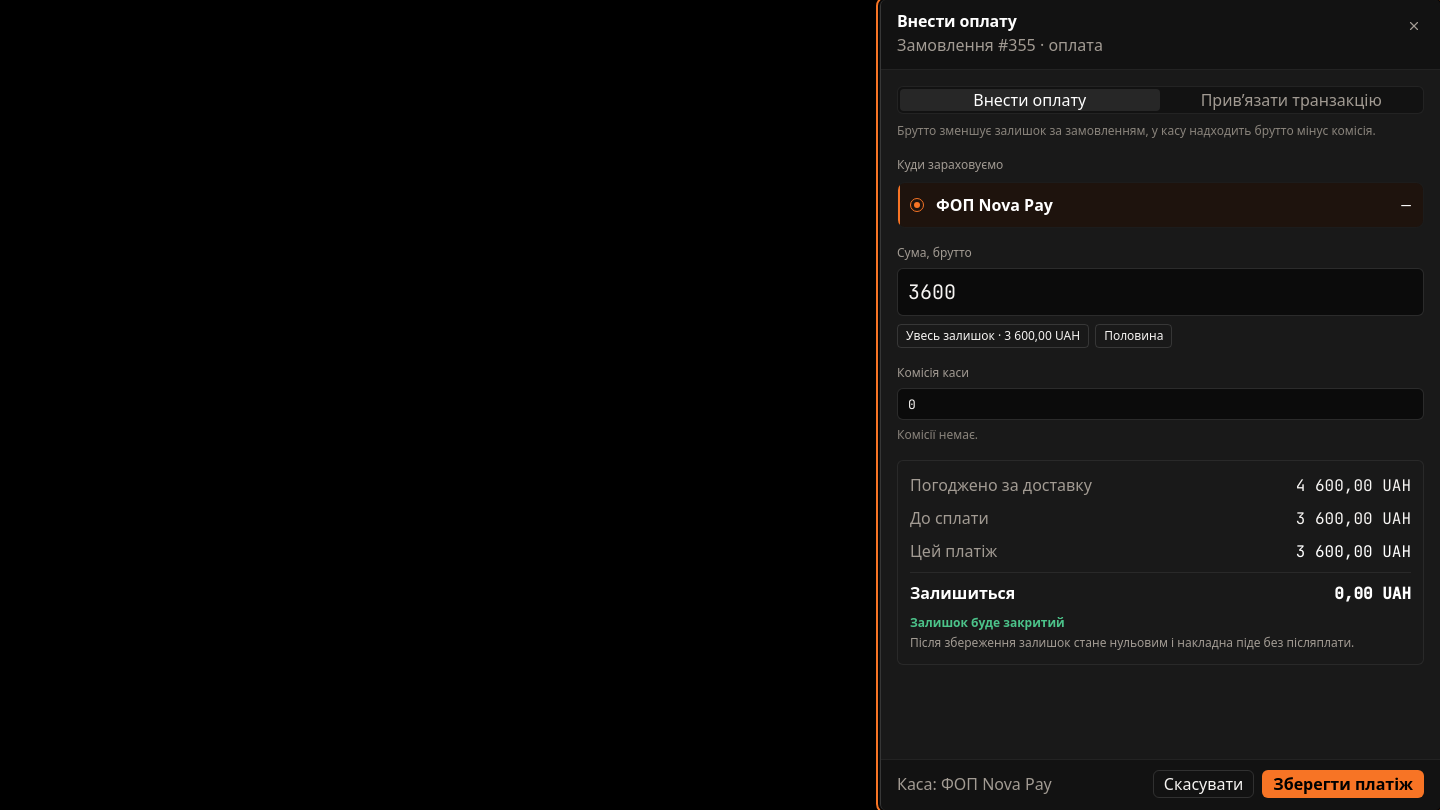
it: will not send a payment larger than the balance
Replace the text in the field labelled "Сума, брутто" with "5000" at (1160, 292), box top-left (897, 268), bottom-right (1424, 316)
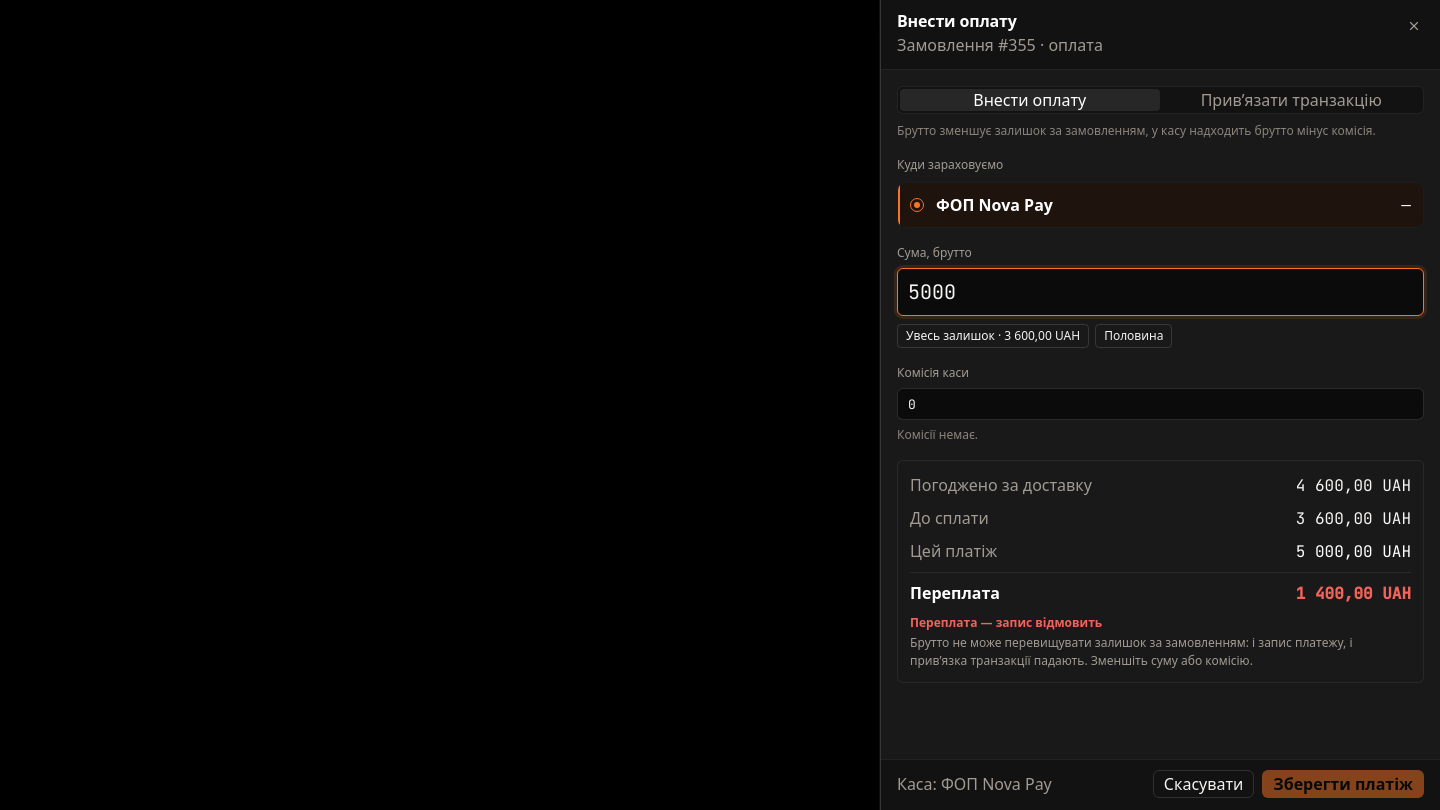
Expected: the text "Переплата — запис відмовить" is shown, top-left (910, 614), bottom-right (1102, 631)
Expected: the button "Зберегти платіж" is disabled, top-left (1262, 770), bottom-right (1424, 798)
